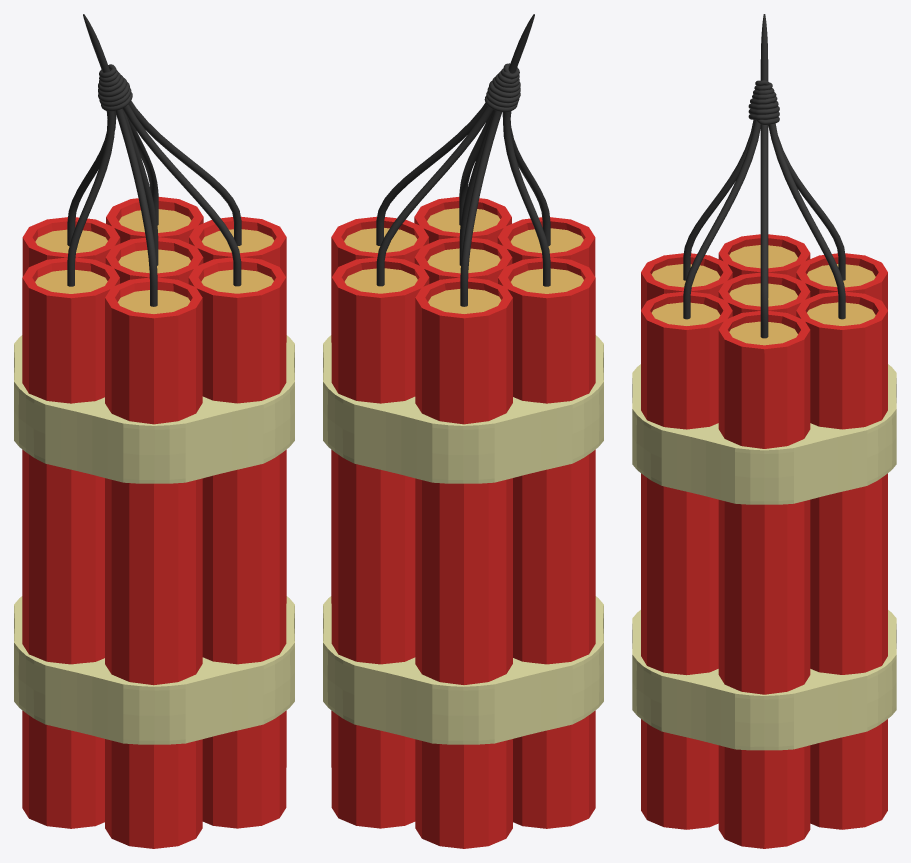
File: dynamite.glb
The picture shows the model from 3 angles, left to right: view 1: azimuth 30°, elevation 25°; view 2: azimuth 150°, elevation 25°; view 3: azimuth 270°, elevation 25°; orthographic projection. The views are drawn at different scales.
Parts seen in each view (by area): view 1: Bands; view 2: Bands; view 3: Bands.
Boxes of the visible parts, x1=… form: Bands: x1=14, y1=14, x2=294, y2=848; Bands: x1=323, y1=14, x2=603, y2=848; Bands: x1=632, y1=14, x2=896, y2=848.
Bounding box in the file's own units: 0.1519 × 0.4472 × 0.1439.
